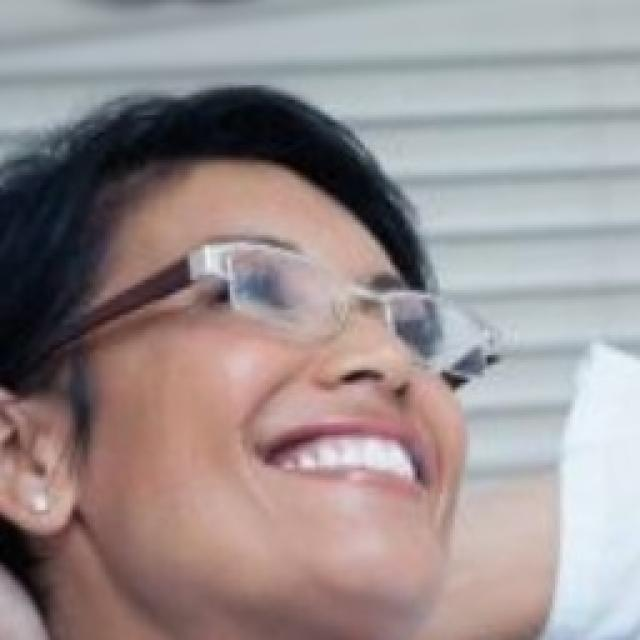glasses: (36, 230, 529, 405)
